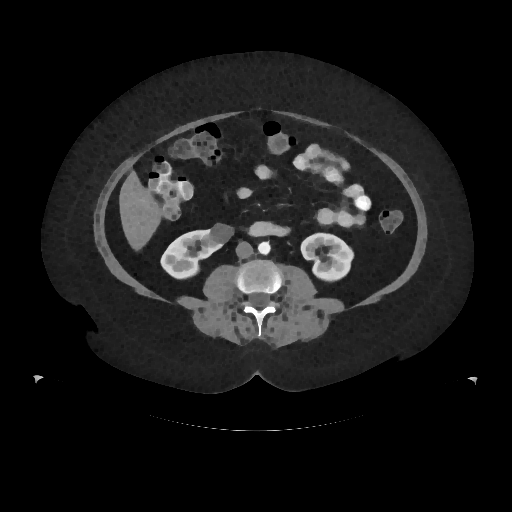Lesion: (206, 220, 236, 246)
